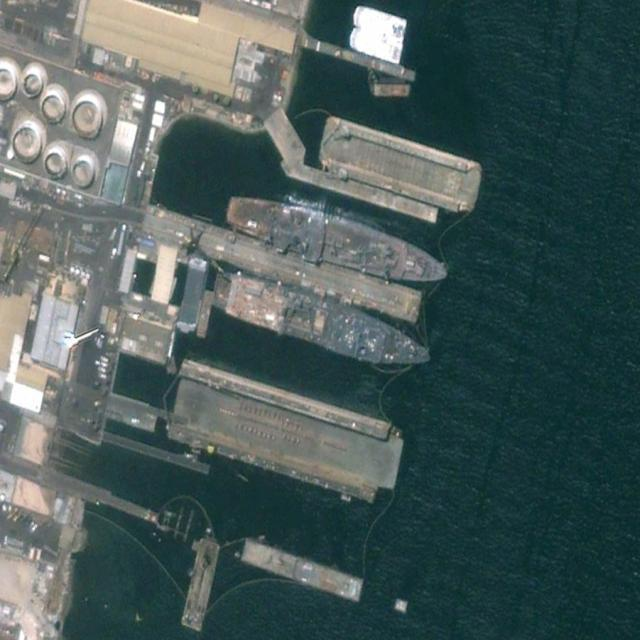Other Ship: (209, 265, 437, 382), (222, 186, 453, 298)
